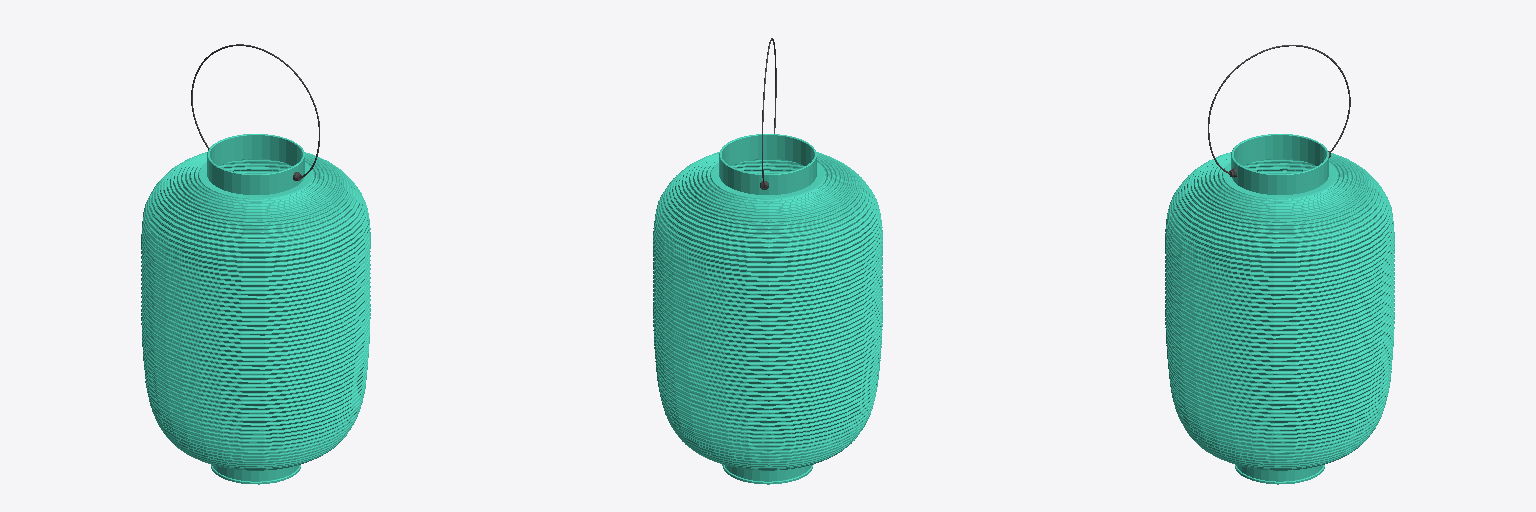
Rendered from j_lamp_japan.obj.
3 views of the same model, side by side, from view 1: azimuth 30°, elevation 25°; view 2: azimuth 150°, elevation 25°; view 3: azimuth 270°, elevation 25° (orthographic).
Parts seen in each view (by area): view 1: Box001, Cylinder002; view 2: Box001; view 3: Box001, Cylinder002.
Boxes of the visible parts, <box> form: Box001: <box>141,134,370,484</box>; Cylinder002: <box>191,44,319,180</box>; Box001: <box>653,134,882,484</box>; Box001: <box>1165,134,1394,484</box>; Cylinder002: <box>1208,45,1350,177</box>.
Size of the model in its own units: 18.5 by 37.22 by 18.5.